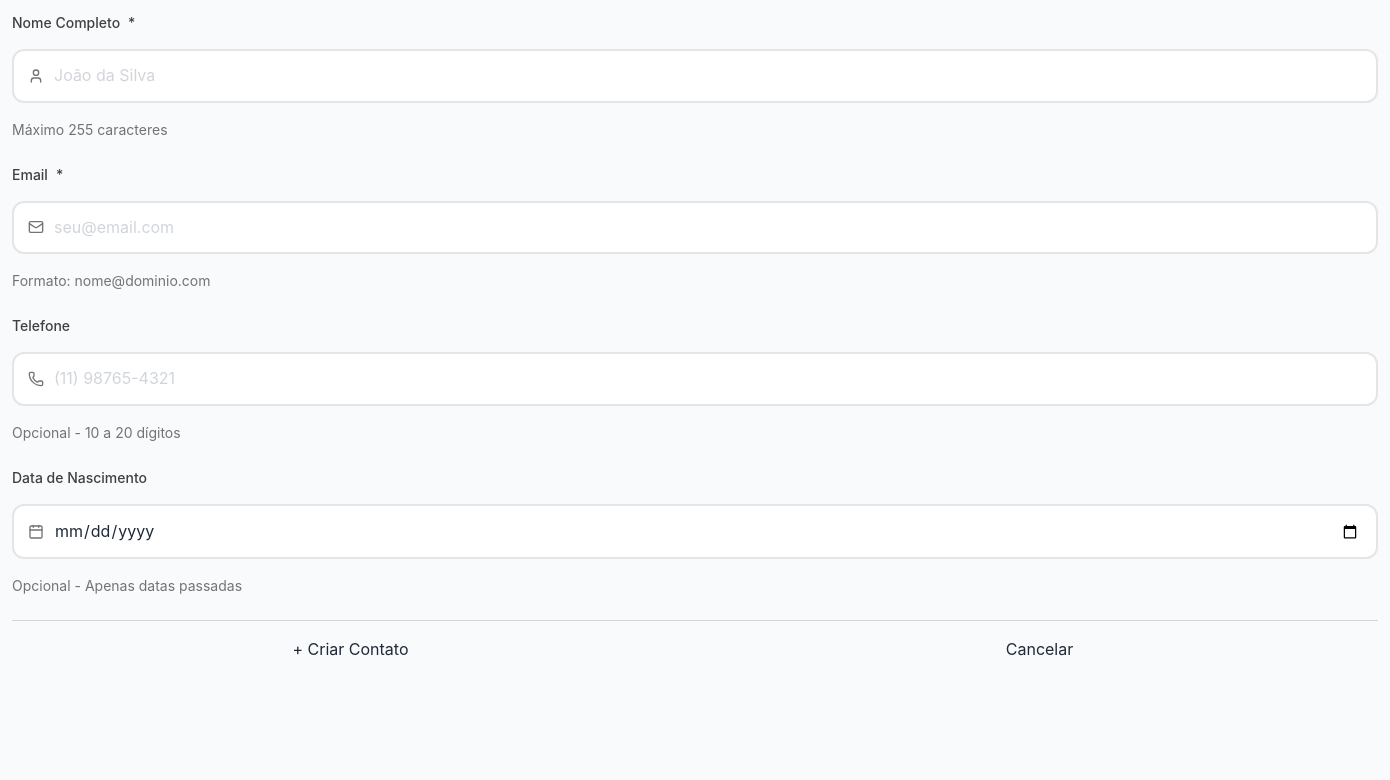
Scenario: ContactForm - Error Message Display › Phone Format Errors › should show "Phone must be 10-20 digits" for short phone
This screenshot has width=1390, height=780.
# Type phone with less than 10 digits
Type "123" into the field labelled "Telefone". click: (695, 379)
box: [12,352,1378,406]
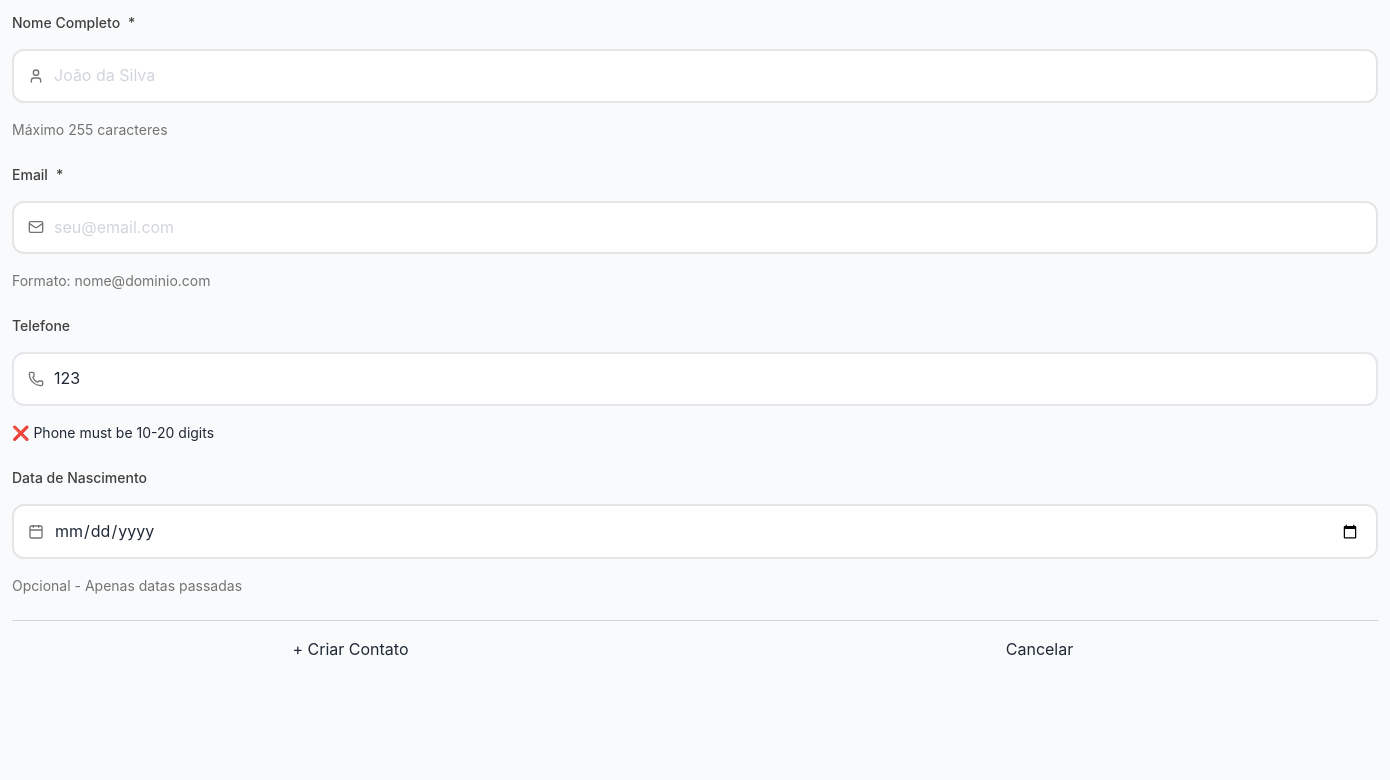
Expected: the text "❌ Phone must be 10-20 digits" is shown, [12,424,214,441]
